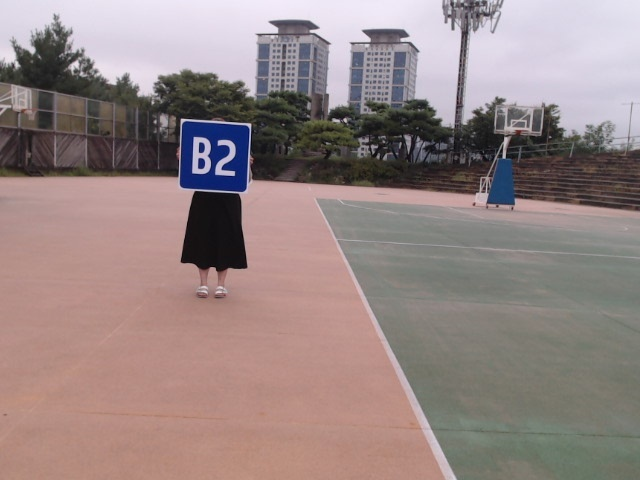delivery_b2: (179, 120, 251, 193)
